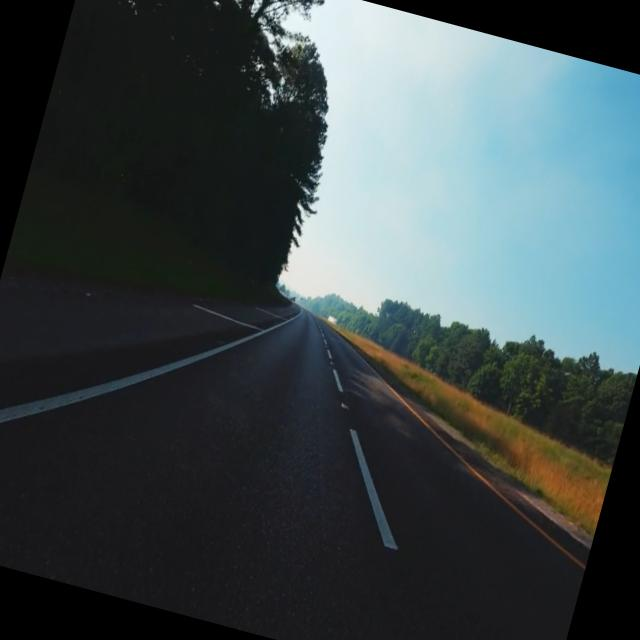asphalt: (0, 276, 590, 640)
grass: (331, 325, 611, 535)
